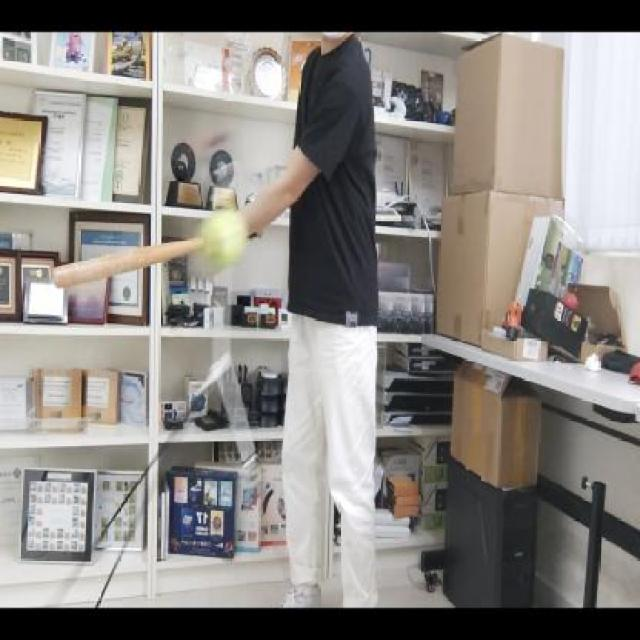baseball: (202, 212, 246, 277)
